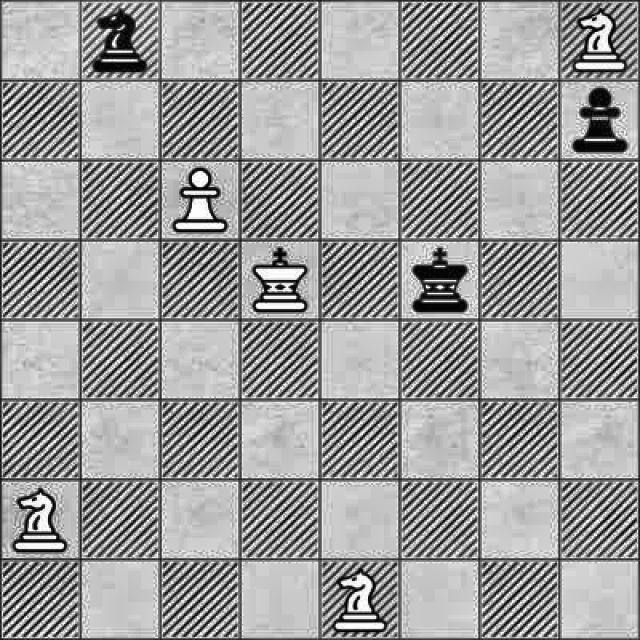Black Knight: (81, 8, 155, 76)
black king: (407, 242, 472, 318)
black pawn: (565, 83, 638, 157)
white king: (248, 242, 312, 316)
white pawn: (166, 166, 236, 242)
whiteknight: (568, 3, 632, 85), (326, 568, 393, 634), (10, 487, 73, 556)
